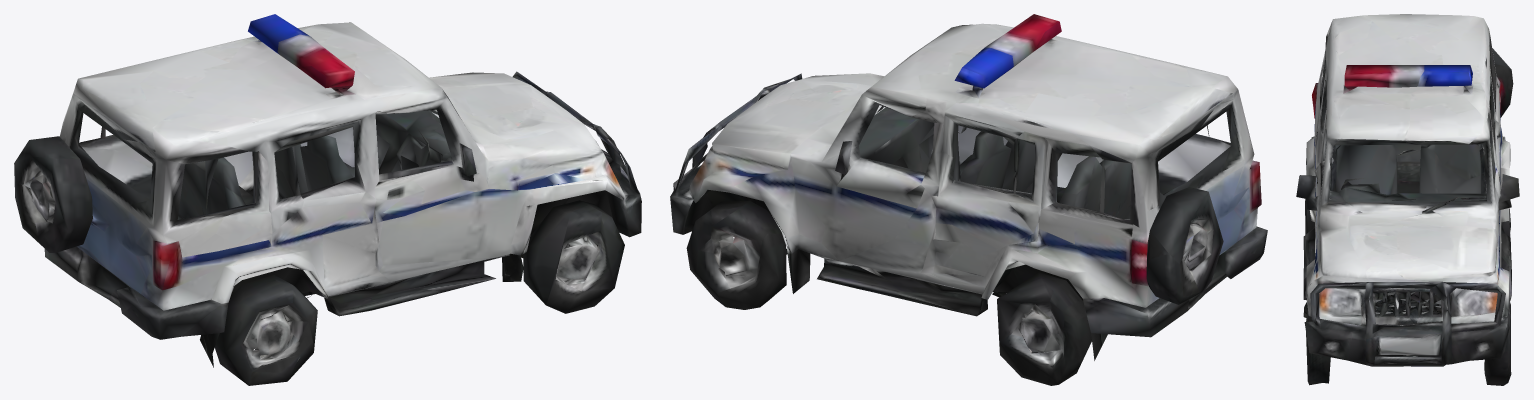
The model's file is police_1.glb.
3 views of the same model, side by side, from view 1: azimuth 30°, elevation 25°; view 2: azimuth 150°, elevation 25°; view 3: azimuth 270°, elevation 25° (orthographic). The views are drawn at different scales.
Visible parts, largest first — view 1: tripo_node_a0111b5e-0ca0-44f2-8589-67dc1035ec91; view 2: tripo_node_a0111b5e-0ca0-44f2-8589-67dc1035ec91; view 3: tripo_node_a0111b5e-0ca0-44f2-8589-67dc1035ec91.
Boxes of the visible parts, <box> form: tripo_node_a0111b5e-0ca0-44f2-8589-67dc1035ec91: <box>14,14,641,385</box>; tripo_node_a0111b5e-0ca0-44f2-8589-67dc1035ec91: <box>670,14,1267,385</box>; tripo_node_a0111b5e-0ca0-44f2-8589-67dc1035ec91: <box>1296,14,1519,385</box>.
Bounding box in the file's own units: 0.9998 × 0.4985 × 0.446.
1 material, 1 textured.
